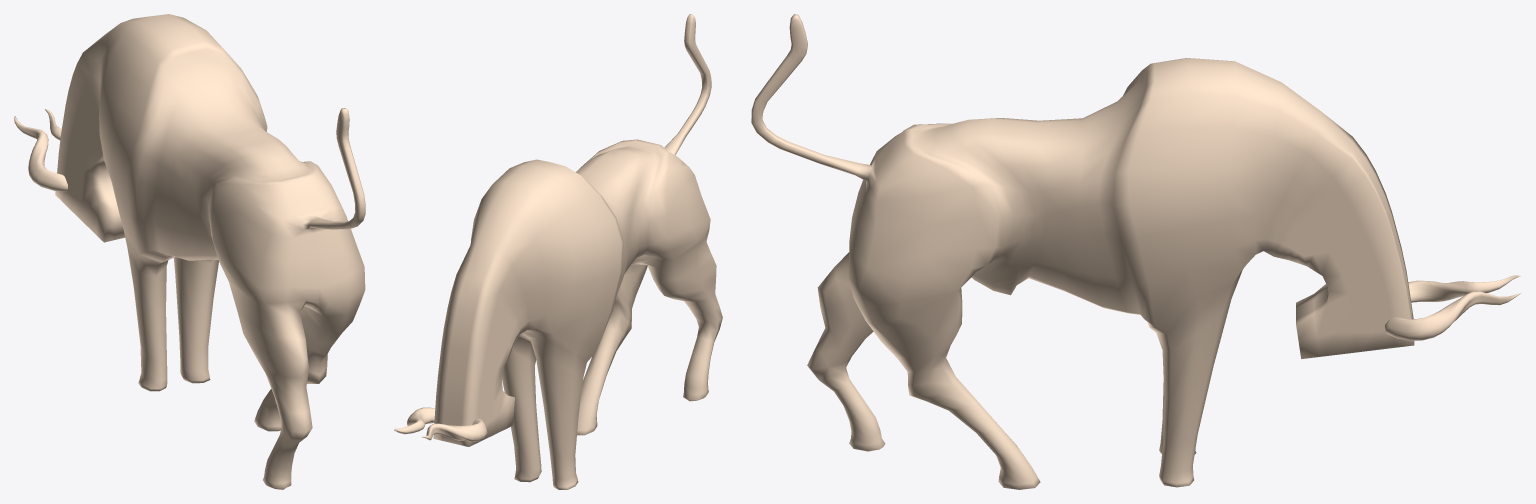
Rendered from Bullstatue2.fbx.
3 renders of one model, left to right at view 1: azimuth 30°, elevation 25°; view 2: azimuth 150°, elevation 25°; view 3: azimuth 270°, elevation 25°, orthographic. The views are drawn at different scales.
Parts seen in each view (by area): view 1: polySurface7; view 2: polySurface7; view 3: polySurface7.
Boxes of the visible parts, <box> form: polySurface7: <box>14,14,365,489</box>; polySurface7: <box>394,14,722,489</box>; polySurface7: <box>751,14,1520,489</box>.
Bounding box in the file's own units: 0.0602 × 0.1674 × 0.2559.
